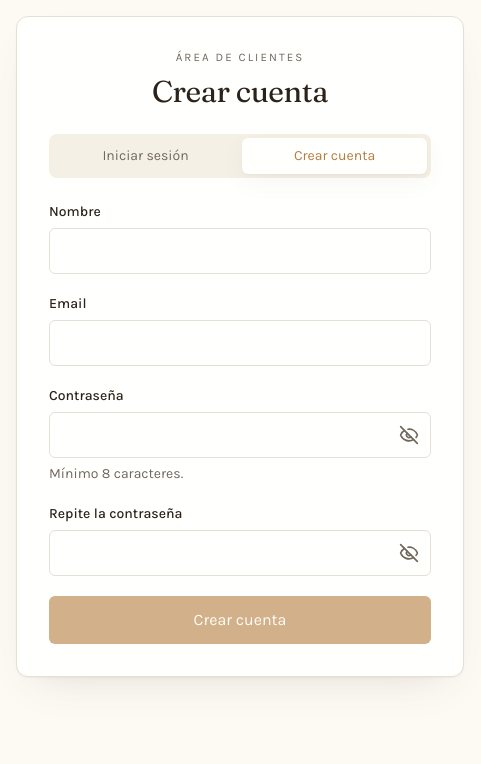
Test: AuthView › en el registro exige una contraseña de al menos 8 caracteres
In the field with id "register-name": (240, 251) [49, 228, 431, 274], type "Ana"
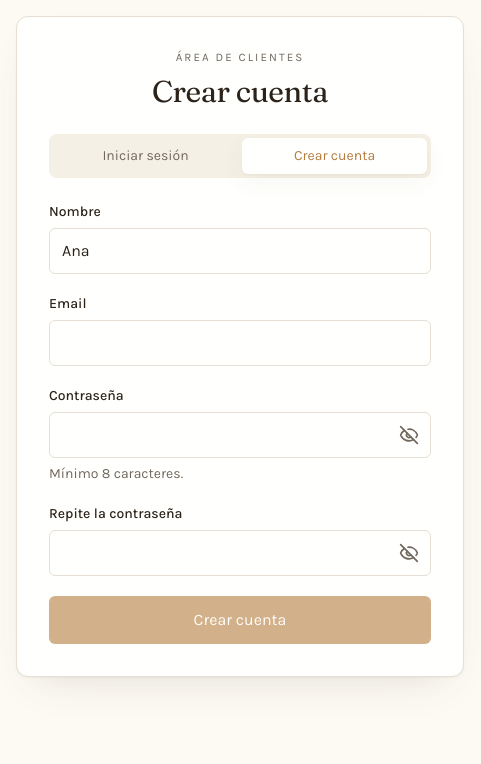
In the field with id "register-email": (240, 343) [49, 320, 431, 366], type "ana@test.com"
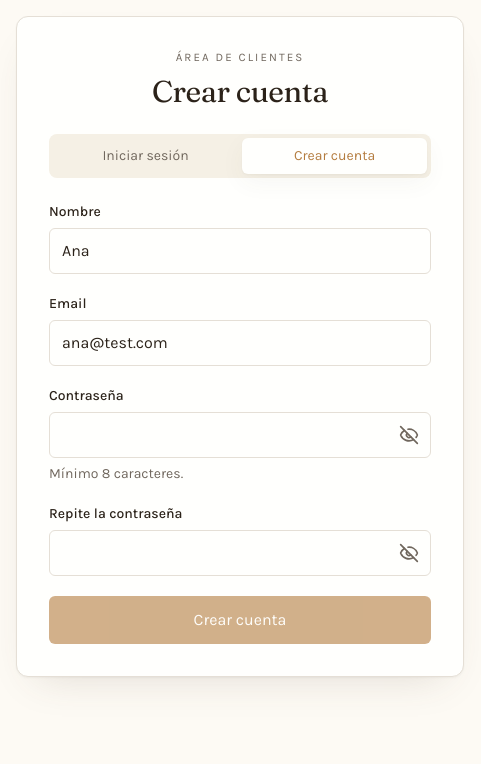
In the password field with id "register-password": (240, 435) [49, 412, 431, 458], type "corta"
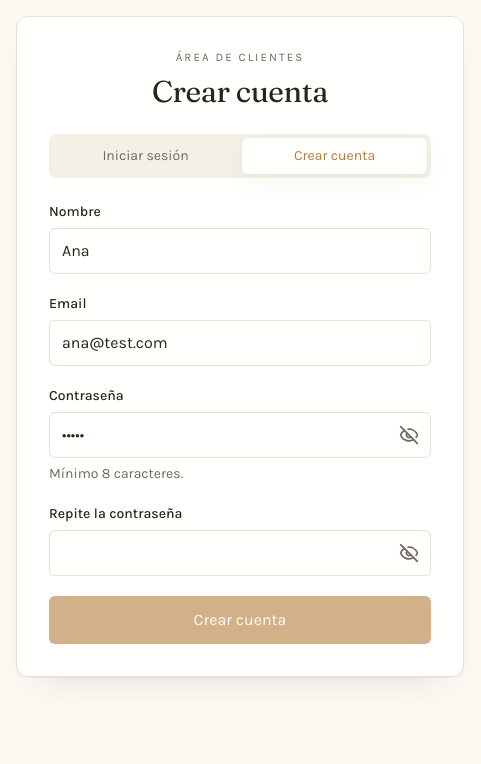
In the password field with id "register-password-confirm": (240, 553) [49, 530, 431, 576], type "corta"
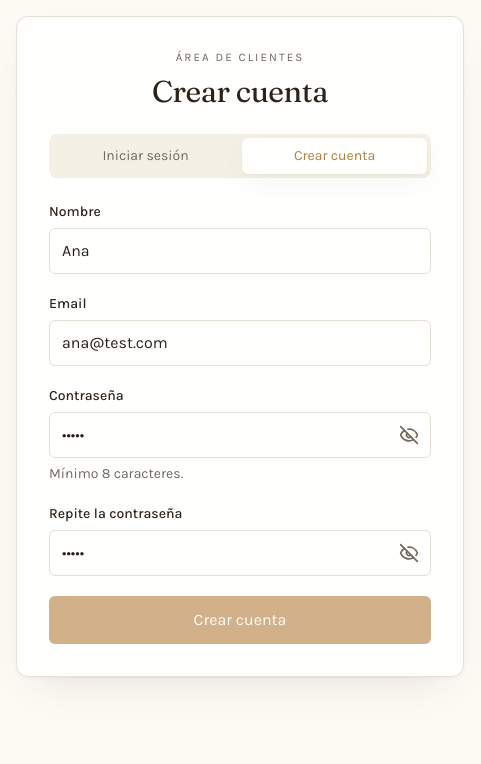
Submit the form, box [49, 202, 431, 644]
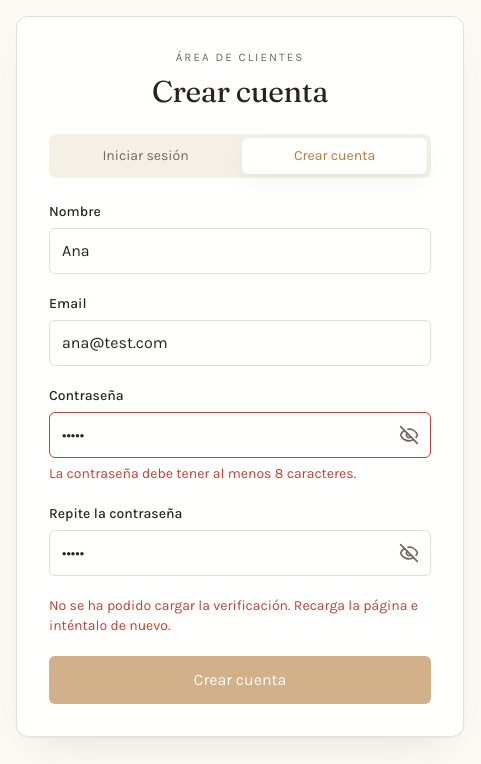
Result: the text "La contraseña debe tener al menos 8 caracteres." is shown at [49, 465, 356, 482]
